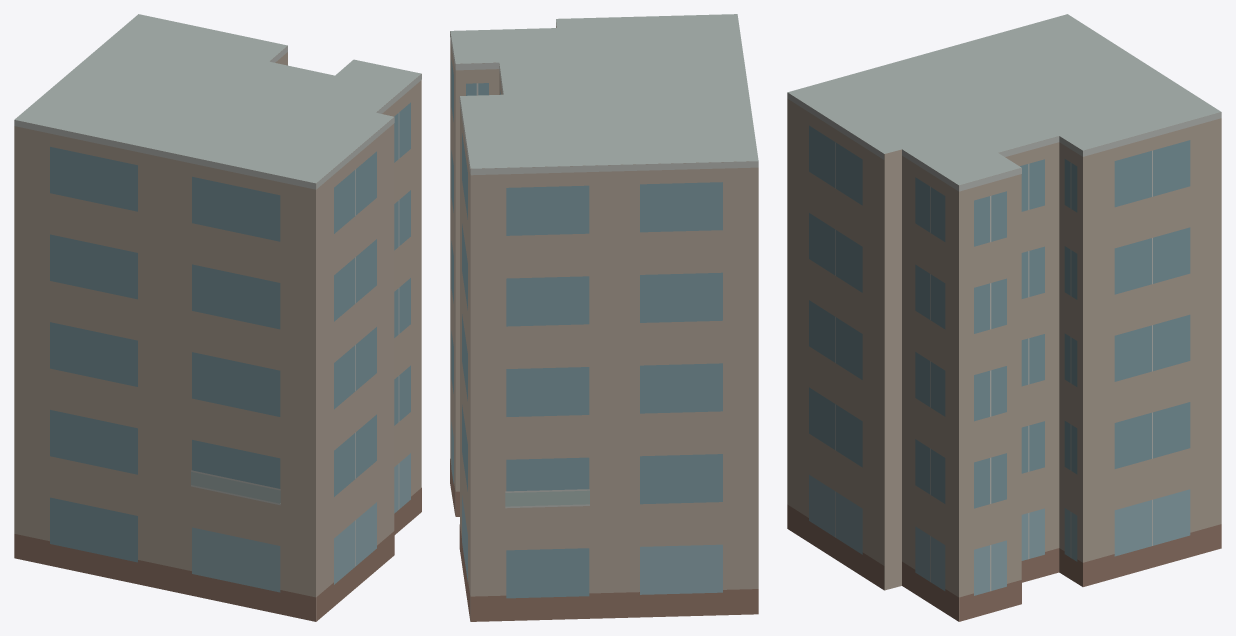
The model's file is survey-upis-32615118.glb.
3 renders of one model, left to right at view 1: azimuth 30°, elevation 25°; view 2: azimuth 150°, elevation 25°; view 3: azimuth 270°, elevation 25°, orthographic. The views are drawn at different scales.
Parts seen in each view (by area): view 1: survey-upis-32615118.tmp; view 2: survey-upis-32615118.tmp; view 3: survey-upis-32615118.tmp.
Part boxes in pixels (x1,y1,x2,y2): survey-upis-32615118.tmp: [14, 14, 421, 621]; survey-upis-32615118.tmp: [450, 14, 758, 621]; survey-upis-32615118.tmp: [787, 14, 1221, 621].
Bounding box in the file's own units: 14.41 × 17.1 × 15.42.
